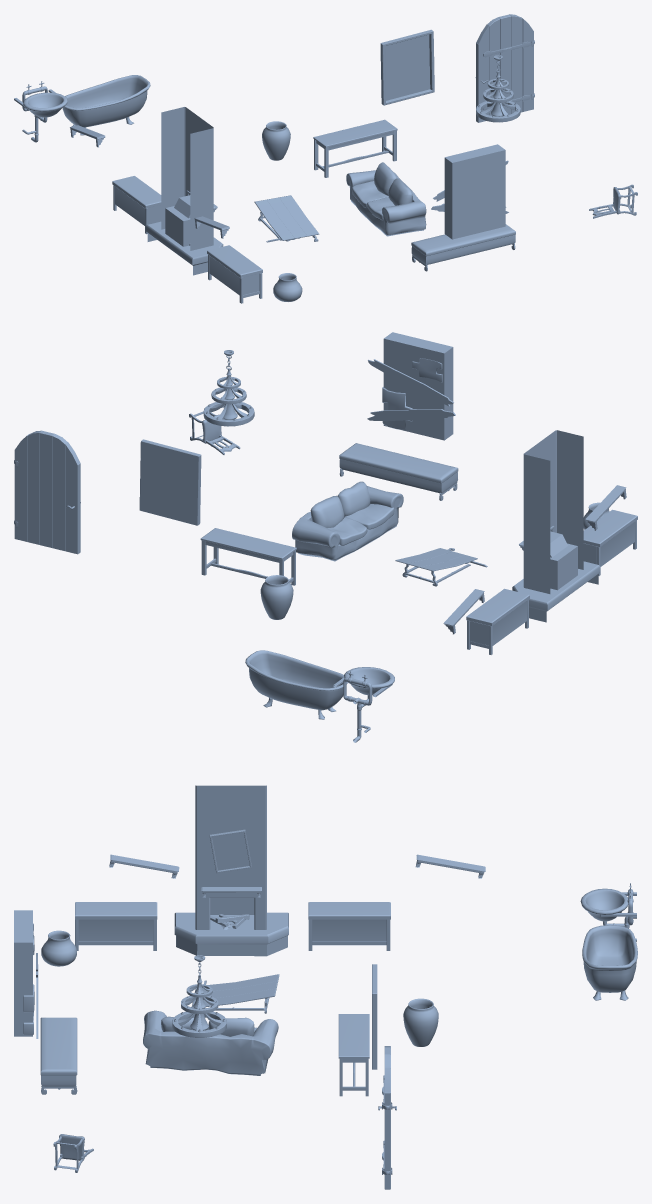
File: SM_living_room.fbx
3 renders of one model, top to bottom at view 1: azimuth 30°, elevation 25°; view 2: azimuth 150°, elevation 25°; view 3: azimuth 270°, elevation 25°, orthographic. The views are drawn at different scales.
Parts seen in each view (by area): view 1: Fireplace:polySurface1, Fireplace:Cealedwindow, Dining_table_v01:Dining_table_v01:polySurface143, polySurface689, pictureframe:polySurface1, Fireplace:Fireplace:Fireplace:Fireplace:Tub, bench_02:polySurface1, Fireplace:polySurface8, table03:polySurface1, Fireplace:Fireplace:polySurface699, Fireplace:Fireplace:Fireplace:polySurface8, chandelier_high:polySurface1 (+4 smaller); view 2: Fireplace:polySurface1, Dining_table_v01:Dining_table_v01:polySurface143, Fireplace:Cealedwindow, polySurface689, pictureframe:polySurface1, Fireplace:Fireplace:Fireplace:Fireplace:Tub, bench_02:polySurface1, Fireplace:Fireplace:Fireplace:polySurface8, table03:polySurface1, Fireplace:polySurface8, chandelier_high:polySurface1, pCylinder19 (+5 smaller); view 3: Fireplace:polySurface1, polySurface689, Fireplace:Fireplace:Fireplace:polySurface8, Fireplace:polySurface8, Fireplace:Fireplace:Fireplace:Fireplace:Tub, Fireplace:Cealedwindow, bench_02:polySurface1, chandelier_high:polySurface1, table03:polySurface1, Fireplace:Fireplace:polySurface699, pCylinder19, Fireplace:polySurface13 (+6 smaller).
Boxes of the visible parts, left/top/right/bottom form: Fireplace:polySurface1: left=146, top=107, right=223, bottom=275; Fireplace:Cealedwindow: left=431, top=144, right=508, bottom=239; Dining_table_v01:Dining_table_v01:polySurface143: left=475, top=14, right=534, bottom=122; polySurface689: left=346, top=162, right=426, bottom=236; pictureframe:polySurface1: left=380, top=29, right=434, bottom=105; Fireplace:Fireplace:Fireplace:Fireplace:Tub: left=62, top=75, right=150, bottom=135; bench_02:polySurface1: left=411, top=224, right=515, bottom=271; Fireplace:polySurface8: left=207, top=245, right=262, bottom=303; table03:polySurface1: left=313, top=119, right=397, bottom=177; Fireplace:Fireplace:polySurface699: left=254, top=195, right=319, bottom=241; Fireplace:Fireplace:Fireplace:polySurface8: left=112, top=176, right=161, bottom=234; chandelier_high:polySurface1: left=476, top=55, right=520, bottom=122; Fireplace:polySurface1: left=512, top=430, right=600, bottom=622; Dining_table_v01:Dining_table_v01:polySurface143: left=14, top=430, right=80, bottom=554; Fireplace:Cealedwindow: left=367, top=332, right=455, bottom=440; polySurface689: left=292, top=481, right=403, bottom=561; pictureframe:polySurface1: left=139, top=439, right=201, bottom=525; Fireplace:Fireplace:Fireplace:Fireplace:Tub: left=245, top=650, right=347, bottom=719; bench_02:polySurface1: left=339, top=443, right=458, bottom=500; Fireplace:Fireplace:Fireplace:polySurface8: left=466, top=588, right=529, bottom=654; table03:polySurface1: left=200, top=528, right=296, bottom=585; Fireplace:polySurface8: left=583, top=509, right=637, bottom=575; chandelier_high:polySurface1: left=203, top=350, right=254, bottom=426; pCylinder19: left=333, top=667, right=394, bottom=742; Fireplace:polySurface1: left=174, top=785, right=288, bottom=956; polySurface689: left=143, top=1010, right=278, bottom=1075; Fireplace:Fireplace:Fireplace:polySurface8: left=308, top=902, right=390, bottom=950; Fireplace:polySurface8: left=75, top=902, right=157, bottom=950; Fireplace:Fireplace:Fireplace:Fireplace:Tub: left=582, top=925, right=637, bottom=1000; Fireplace:Cealedwindow: left=14, top=910, right=38, bottom=1038; bench_02:polySurface1: left=40, top=1017, right=77, bottom=1094; chandelier_high:polySurface1: left=172, top=955, right=226, bottom=1037; table03:polySurface1: left=338, top=1014, right=369, bottom=1096; Fireplace:Fireplace:polySurface699: left=181, top=974, right=279, bottom=1013; pCylinder19: left=580, top=883, right=636, bottom=941; Fireplace:polySurface13: left=403, top=998, right=438, bottom=1046.
Bounding box in the file's own units: 1166 × 372 × 1195.
